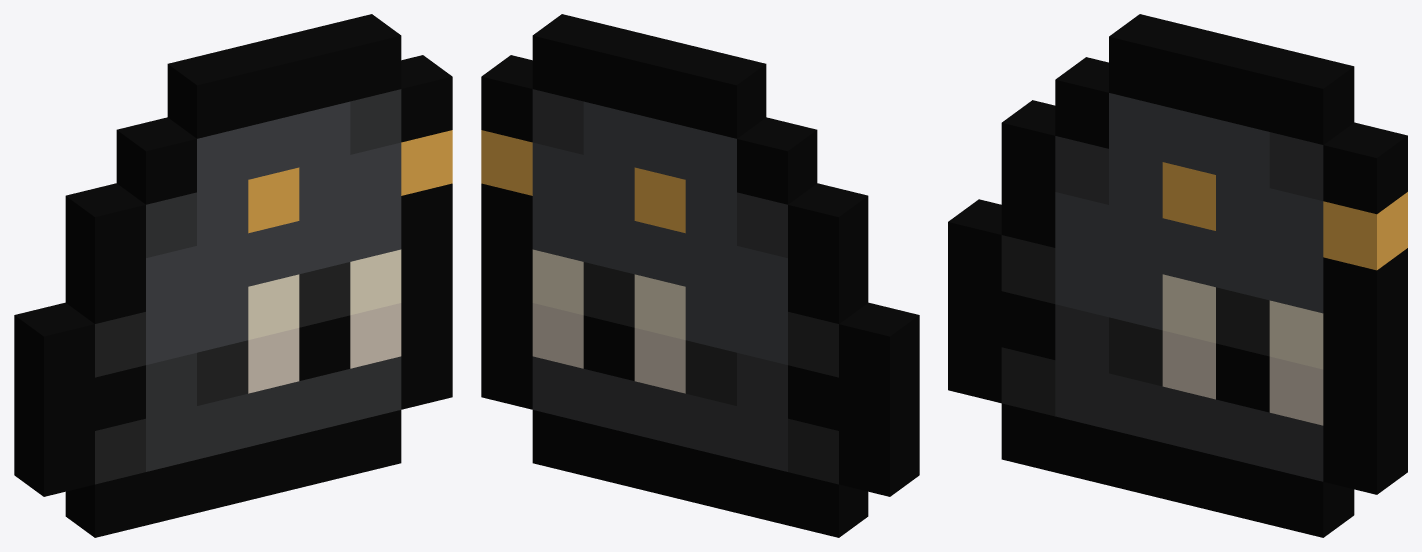
File: Blackwater Leviathan.glb
The picture shows the model from 3 angles, left to right: view 1: azimuth 30°, elevation 25°; view 2: azimuth 150°, elevation 25°; view 3: azimuth 330°, elevation 25°; orthographic projection. The views are drawn at different scales.
Parts seen in each view (by area): view 1: generated(Clone); view 2: generated(Clone); view 3: generated(Clone).
Part boxes in pixels (left/top/right/bottom): generated(Clone): left=14, top=14, right=452, bottom=537; generated(Clone): left=481, top=14, right=919, bottom=537; generated(Clone): left=948, top=14, right=1407, bottom=537.
Bounding box in the file's own units: 8 × 8 × 1.
1 material, 1 textured.
